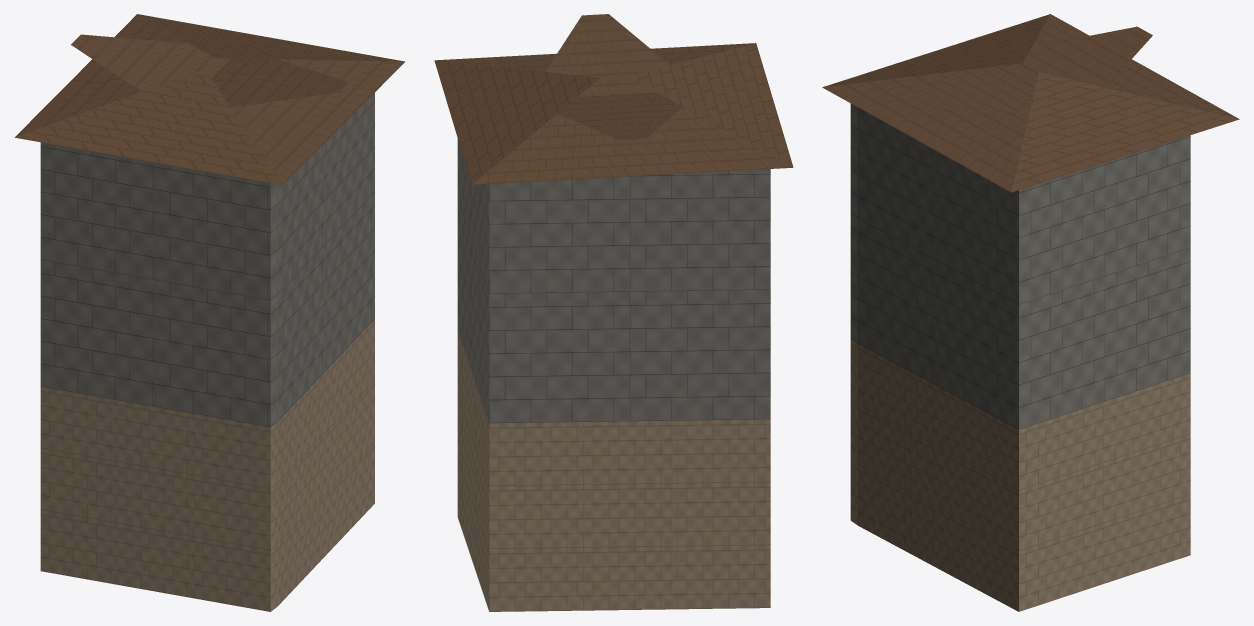
Rendered from bld_c22_-49_533.gltf.
3 views of the same model, side by side, from view 1: azimuth 30°, elevation 25°; view 2: azimuth 150°, elevation 25°; view 3: azimuth 270°, elevation 25° (orthographic). The views are drawn at different scales.
Parts seen in each view (by area): view 1: bld_c22_-49_533; view 2: bld_c22_-49_533; view 3: bld_c22_-49_533.
Boxes of the visible parts, <box> form: bld_c22_-49_533: <box>15,14,404,611</box>; bld_c22_-49_533: <box>434,14,793,611</box>; bld_c22_-49_533: <box>822,14,1239,611</box>.
Size of the model in its own units: 10.73 by 13.1 by 10.61.
Materials: 3 (3 with a texture image).
